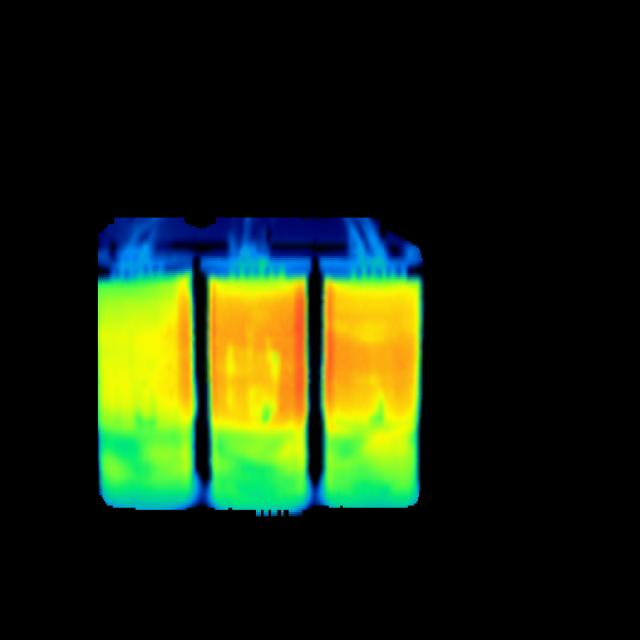Full Wire Overload PF: (102, 260, 430, 511)
